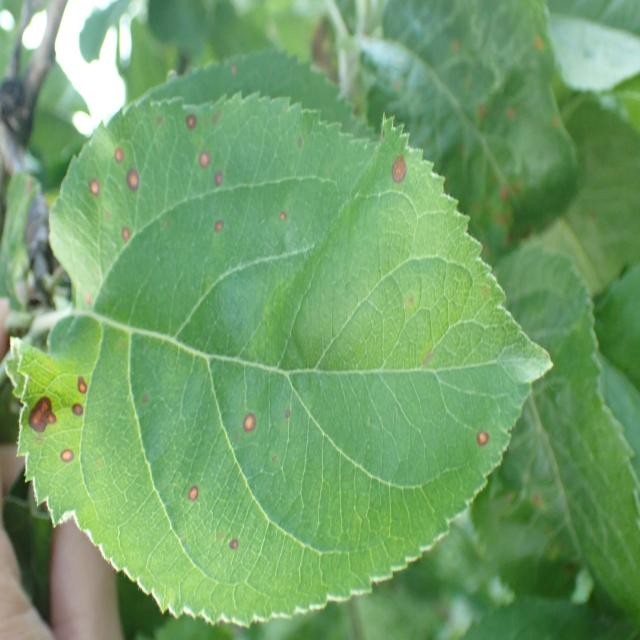frog-eye-leaf-spot: (4, 86, 556, 626)
